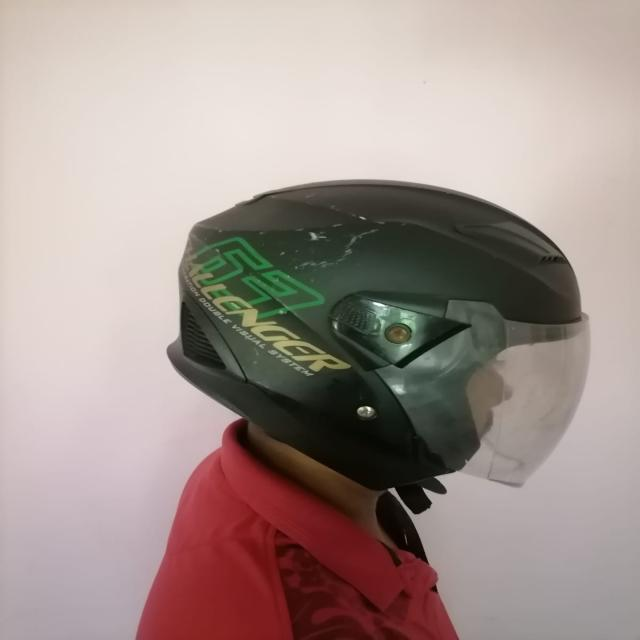With Helmet: (165, 179, 593, 500)
